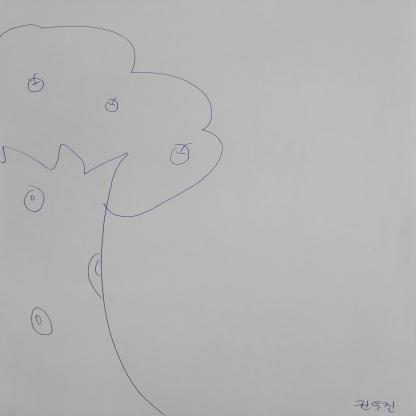apple: (168, 140, 194, 166), (23, 75, 47, 95), (101, 96, 122, 114)
branch_sharp: (2, 139, 130, 201)
crown_cloud: (3, 21, 226, 216)
knot: (83, 252, 109, 300), (24, 305, 60, 338), (20, 184, 48, 213)
trunk_reflex: (2, 217, 129, 367)
